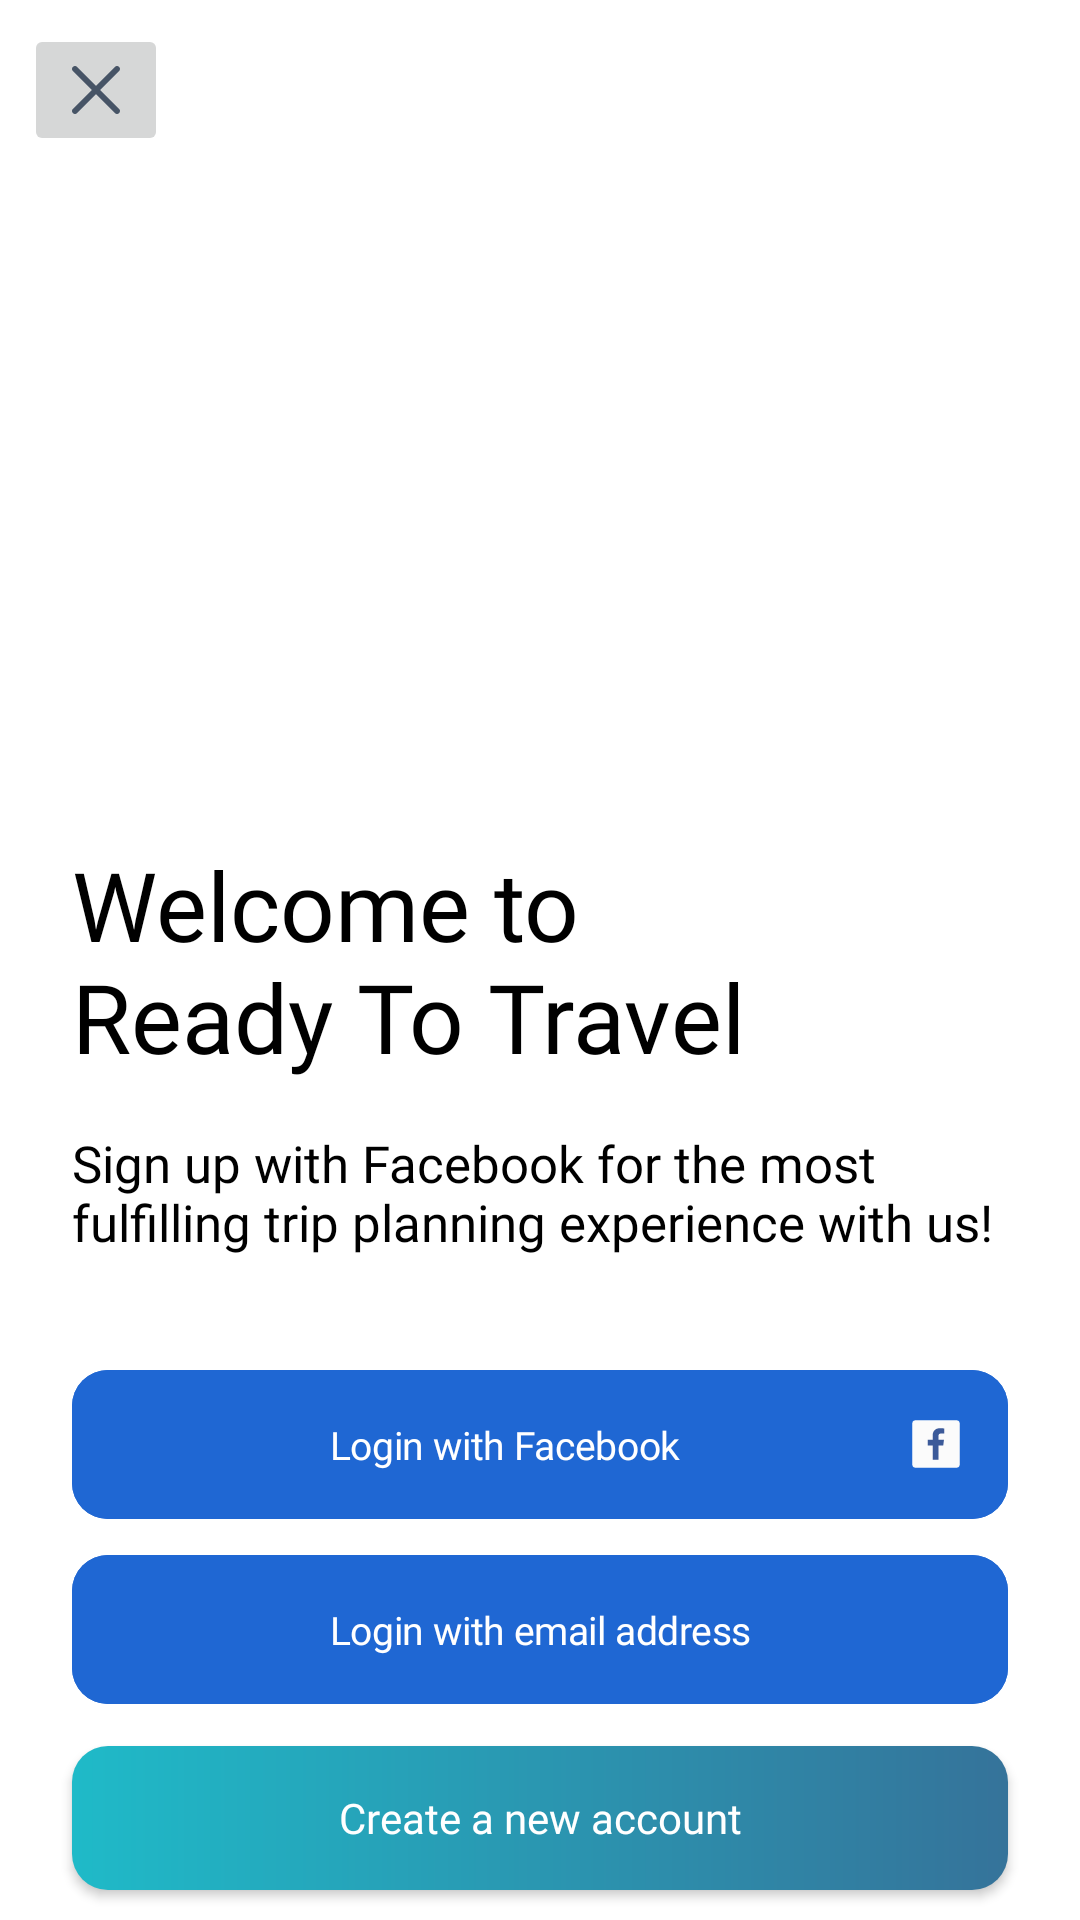

Named icons in this screenshot (1080×1920) and their centers, (x,y):
cancel: (96,90)
